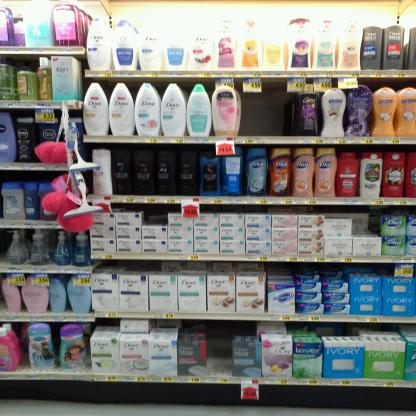Void: (245, 98, 282, 134), (212, 324, 232, 374), (357, 208, 377, 236), (143, 204, 166, 224)
